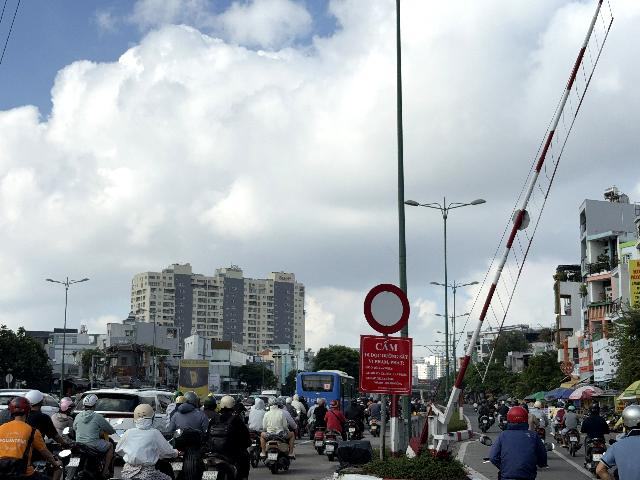duong-cam: (364, 284, 410, 334)
